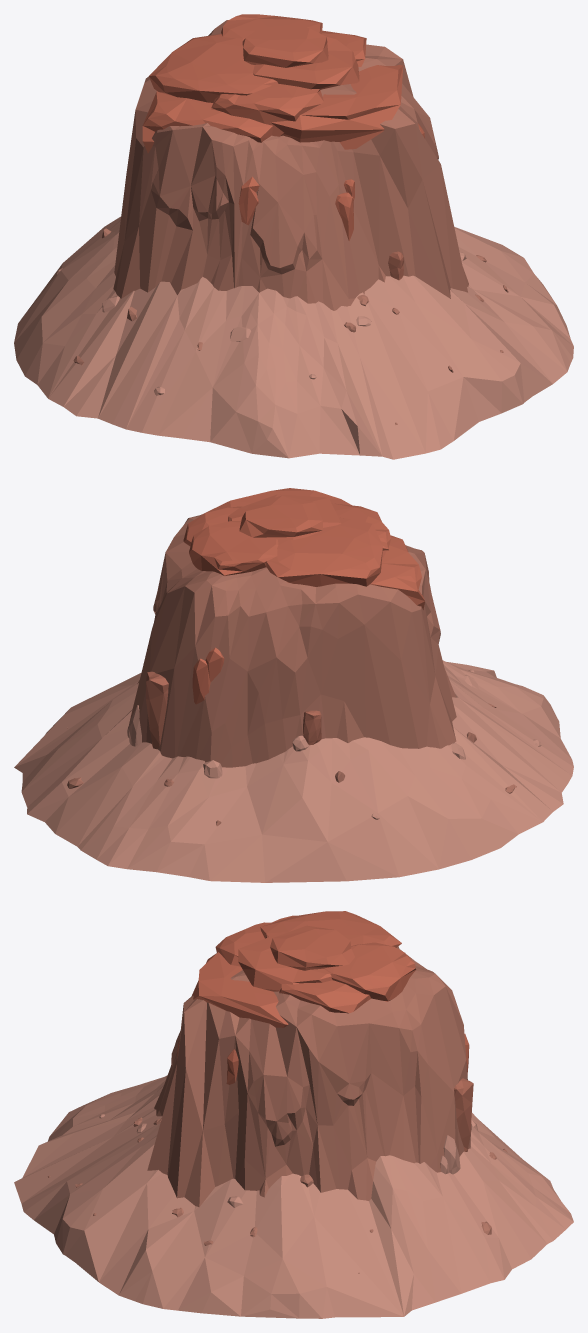
The model's file is crag_010.fbx.
3 views of the same model, one above another, from view 1: azimuth 30°, elevation 25°; view 2: azimuth 150°, elevation 25°; view 3: azimuth 270°, elevation 25° (orthographic). The views are drawn at different scales.
Visible parts, largest first — view 1: crag_010; view 2: crag_010; view 3: crag_010.
Part boxes in pixels (left/top/right/bottom): crag_010: left=14, top=14, right=573, bottom=459; crag_010: left=14, top=488, right=573, bottom=882; crag_010: left=14, top=911, right=573, bottom=1318.
Bounding box in the file's own units: 8691 × 9116 × 4933.
